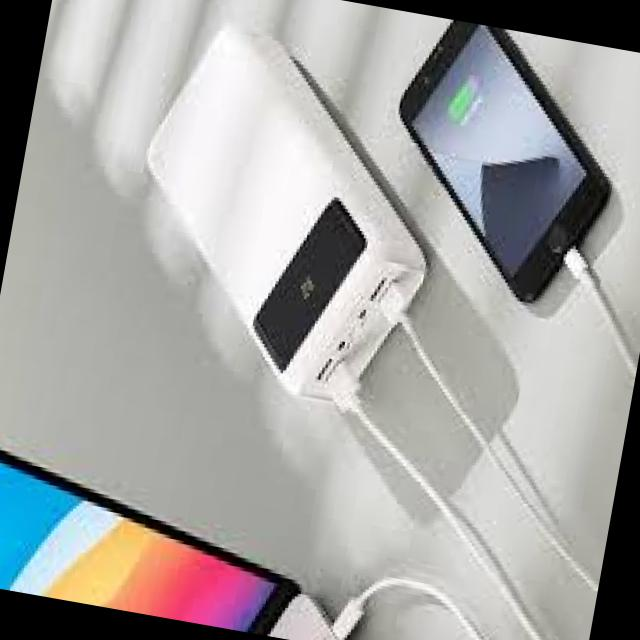portable-charger: (107, 13, 467, 420)
